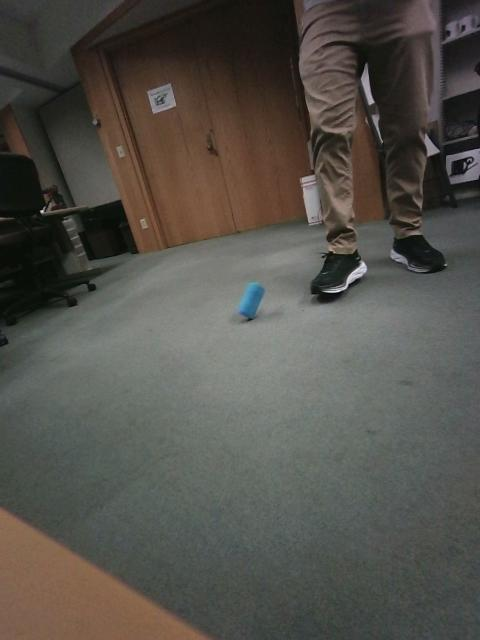block: (379, 312, 452, 365)
